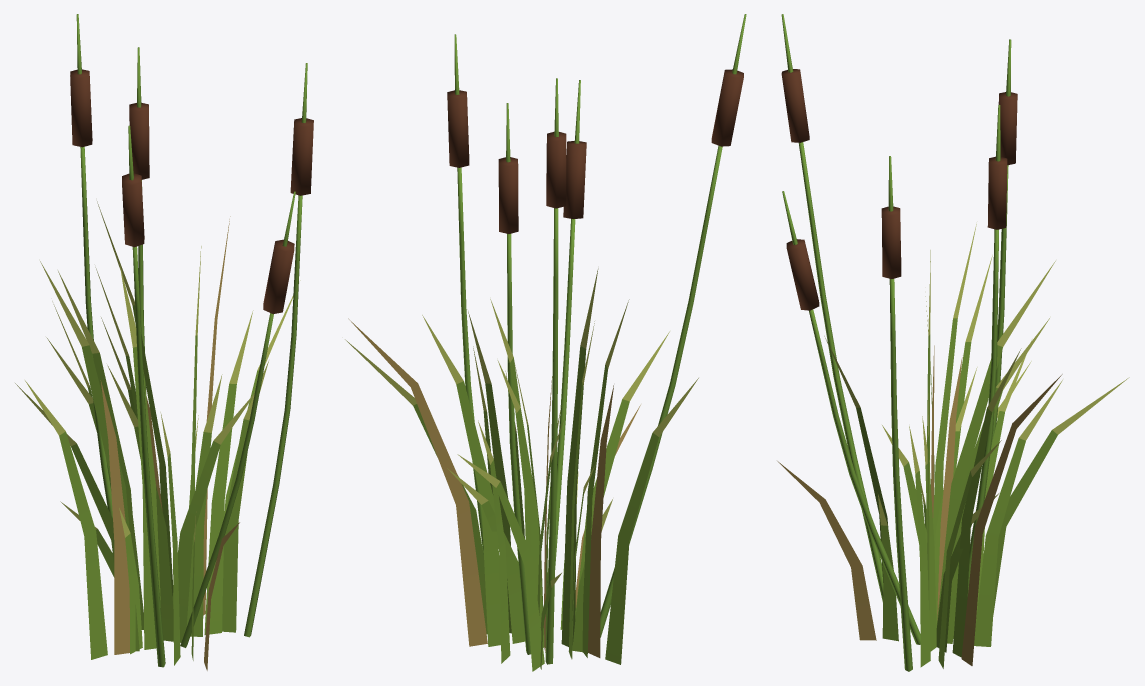
Rendered from reed_cluster_a.glb.
The picture shows the model from 3 angles, left to right: view 1: azimuth 30°, elevation 25°; view 2: azimuth 150°, elevation 25°; view 3: azimuth 270°, elevation 25°; orthographic projection. The views are drawn at different scales.
Parts seen in each view (by area): view 1: reed_cluster_a_mesh; view 2: reed_cluster_a_mesh; view 3: reed_cluster_a_mesh.
Boxes of the visible parts, x1,y1,x2,y2 form: reed_cluster_a_mesh: (15,14,313,670); reed_cluster_a_mesh: (345,14,746,671); reed_cluster_a_mesh: (777,14,1129,671).
Bounding box in the file's own units: 1.36 × 2.5 × 1.39.
